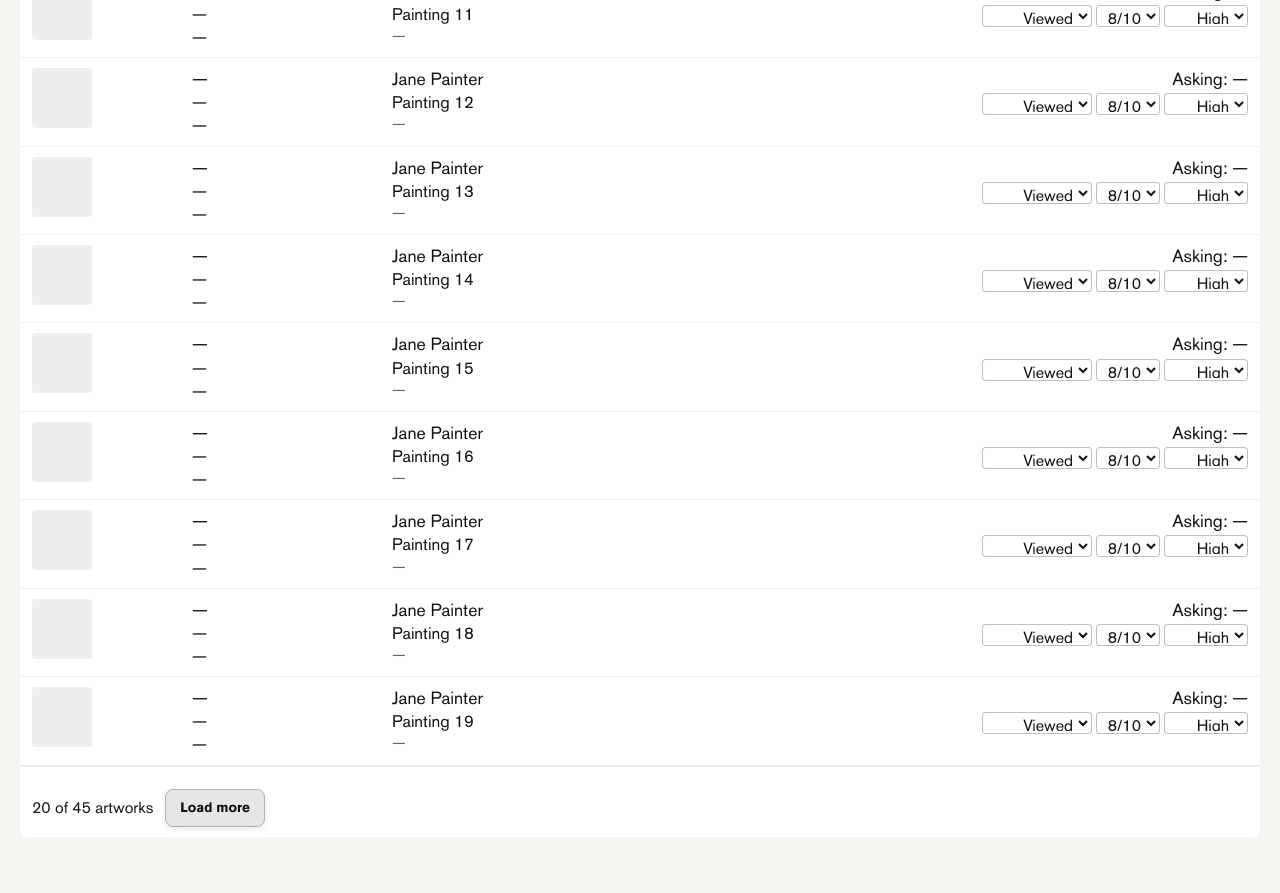
Test: server-paginated artwork index › surfaces page failures without publishing a partial successful load
(page scrolled)
Click the button "Load more". click: [215, 808]
box: [165,789,265,827]
(page scrolled)
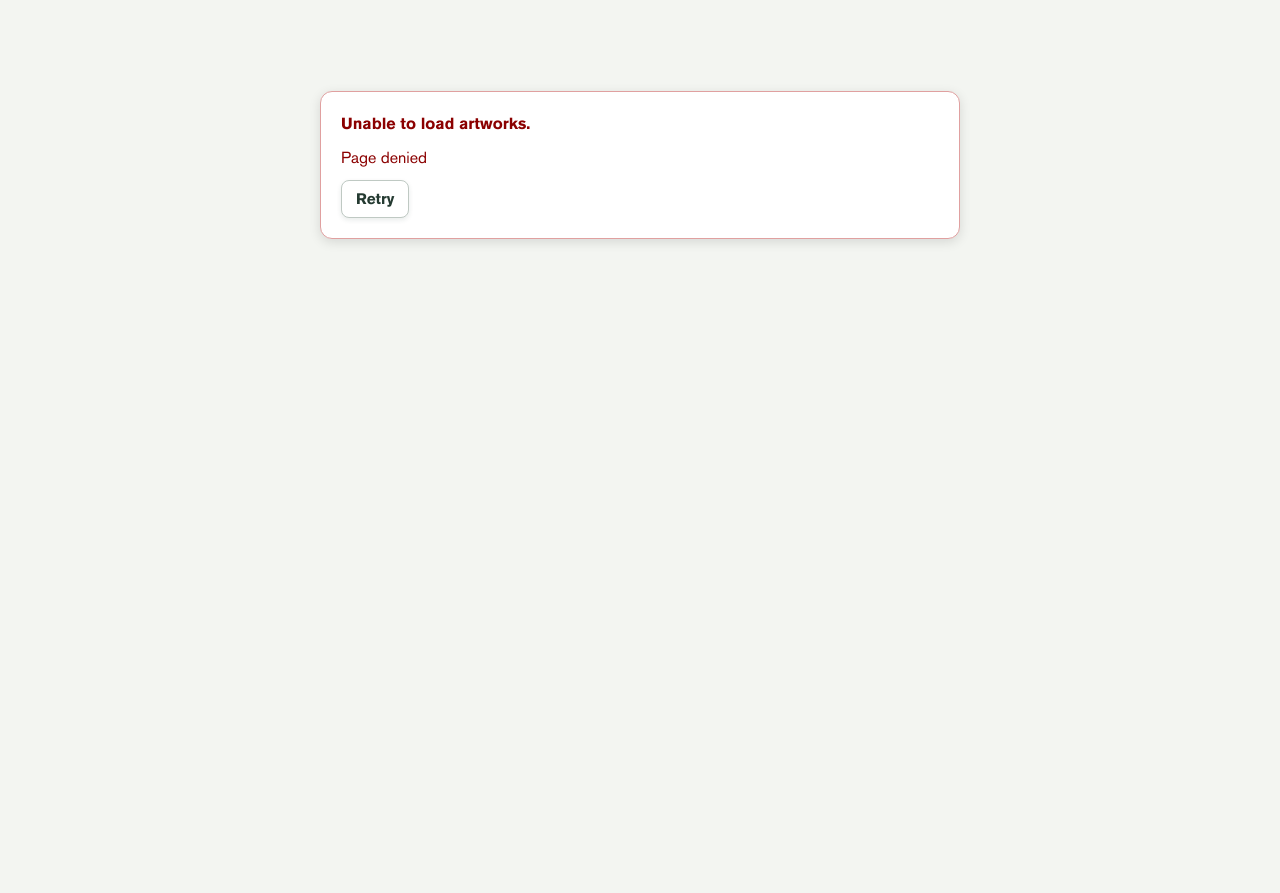
Expected: the message "Unable to load artworks. Page denied Retry" is shown, [320,91,960,239]
Expected: no rows are shown
